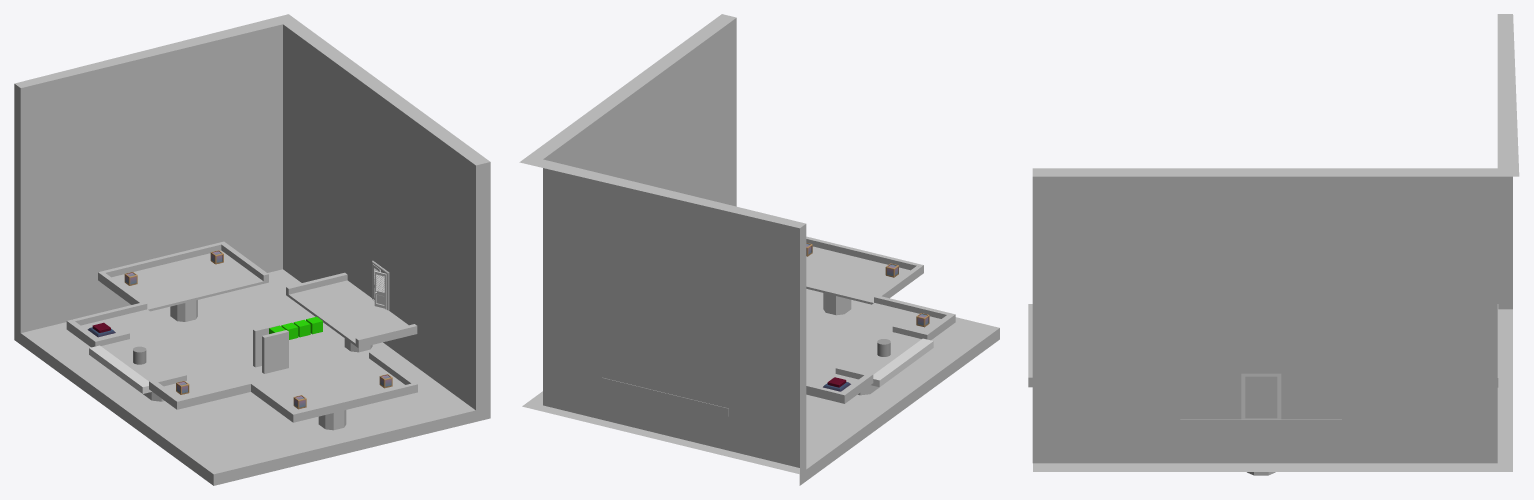
File: Level[BridgeBuilder].fbx
3 renders of one model, left to right at view 1: azimuth 30°, elevation 25°; view 2: azimuth 150°, elevation 25°; view 3: azimuth 270°, elevation 25°, orthographic. The views are drawn at different scales.
Parts seen in each view (by area): view 1: wallLeft, polySurface13, voidWall, platform1, platform, platform3, platform2, edge4, edge14, HoldGuide1, doorEntrance, edge12 (+7 smaller); view 2: wallLeft, polySurface13, voidWall, platform1, platform3, edge14, doorEntrance, edge4, edge12, edge5; view 3: polySurface13, voidWall, wallLeft, platform2, door.
Part boxes in pixels (x1,y1,x2,y2): wallLeft: [14, 14, 288, 332]; polySurface13: [283, 14, 490, 410]; voidWall: [14, 269, 490, 485]; platform1: [81, 309, 246, 401]; platform: [111, 250, 263, 321]; platform3: [259, 358, 404, 430]; platform2: [288, 280, 408, 352]; edge4: [291, 382, 417, 422]; edge14: [98, 241, 225, 281]; HoldGuide1: [262, 330, 288, 373]; doorEntrance: [89, 345, 151, 393]; edge12: [180, 382, 250, 408]; wallLeft: [520, 159, 806, 473]; polySurface13: [519, 14, 736, 206]; voidWall: [522, 289, 999, 485]; platform1: [806, 303, 940, 395]; platform3: [806, 246, 910, 315]; edge14: [602, 377, 728, 416]; doorEntrance: [871, 338, 933, 387]; edge4: [806, 236, 923, 274]; edge12: [878, 296, 949, 318]; edge5: [874, 266, 921, 303]; polySurface13: [1032, 168, 1518, 463]; voidWall: [1033, 309, 1512, 471]; wallLeft: [1497, 14, 1519, 309]; platform2: [1180, 419, 1341, 475]; door: [1241, 373, 1281, 419].
Bounding box in the file's own units: 32.45 × 28.96 × 41.05.
